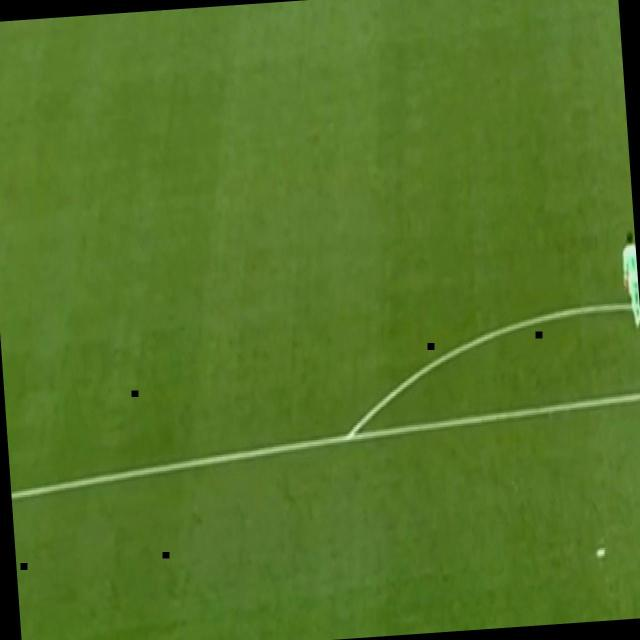player-white: (617, 227, 640, 335)
